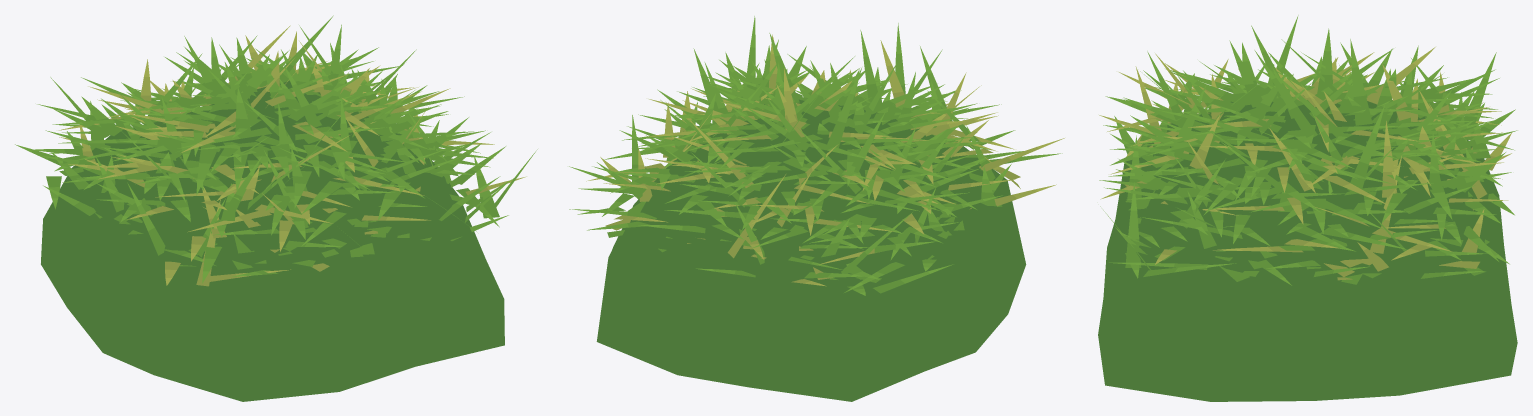
File: compost_pile.gltf
3 views of the same model, side by side, from view 1: azimuth 30°, elevation 25°; view 2: azimuth 150°, elevation 25°; view 3: azimuth 270°, elevation 25° (orthographic). The views are drawn at different scales.
Parts seen in each view (by area): view 1: compost_pile; view 2: compost_pile; view 3: compost_pile.
Boxes of the visible parts, x1,y1,x2,y2 form: compost_pile: (15,15,537,401); compost_pile: (569,16,1064,401); compost_pile: (1098,15,1517,401).
Bounding box in the file's own units: 1.2 × 0.8142 × 1.17.
